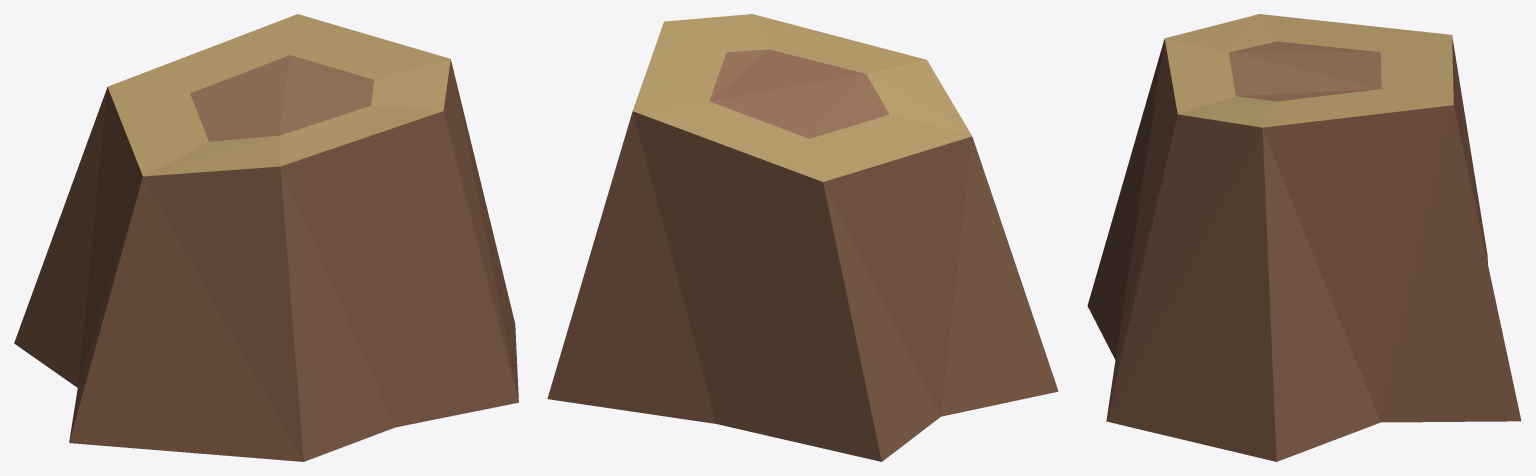
The model's file is TB_Env_Trunk_C.FBX.
3 renders of one model, left to right at view 1: azimuth 30°, elevation 25°; view 2: azimuth 150°, elevation 25°; view 3: azimuth 270°, elevation 25°, orthographic. The views are drawn at different scales.
Parts seen in each view (by area): view 1: TB_Env_Trunk_C; view 2: TB_Env_Trunk_C; view 3: TB_Env_Trunk_C.
Boxes of the visible parts, x1,y1,x2,y2 form: TB_Env_Trunk_C: (14, 14, 518, 461); TB_Env_Trunk_C: (547, 14, 1058, 461); TB_Env_Trunk_C: (1087, 14, 1521, 461).
Bounding box in the file's own units: 0.9547 × 0.5693 × 0.751.
